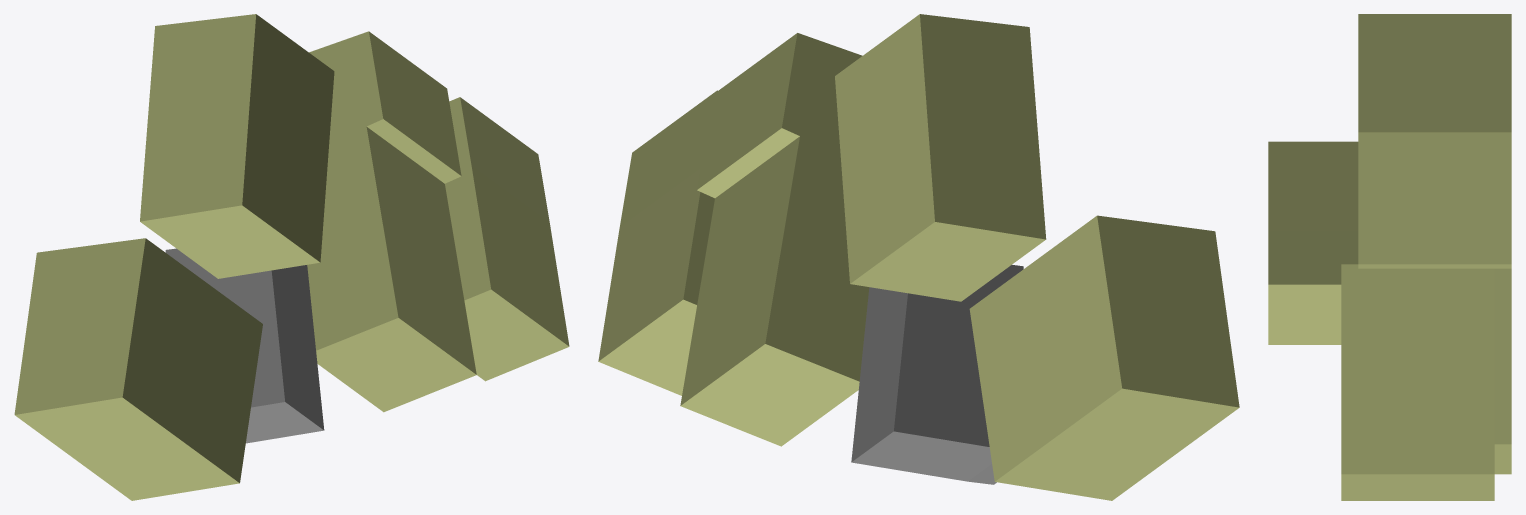
The picture shows the model from 3 angles, left to right: view 1: azimuth 30°, elevation 25°; view 2: azimuth 150°, elevation 25°; view 3: azimuth 270°, elevation 25°; orthographic projection. The views are drawn at different scales.
Visible parts, largest first — view 1: 0_1_2_0_1_3_3_0_1_2; view 2: 0_1_2_0_1_3_3_0_1_2; view 3: 0_1_2_0_1_3_3_0_1_2.
Boxes of the visible parts, x1,y1,x2,y2 form: 0_1_2_0_1_3_3_0_1_2: (14,14,569,500); 0_1_2_0_1_3_3_0_1_2: (598,14,1239,500); 0_1_2_0_1_3_3_0_1_2: (1268,14,1511,500).
Bounding box in the file's own units: 21.02 × 16.33 × 9.52.
